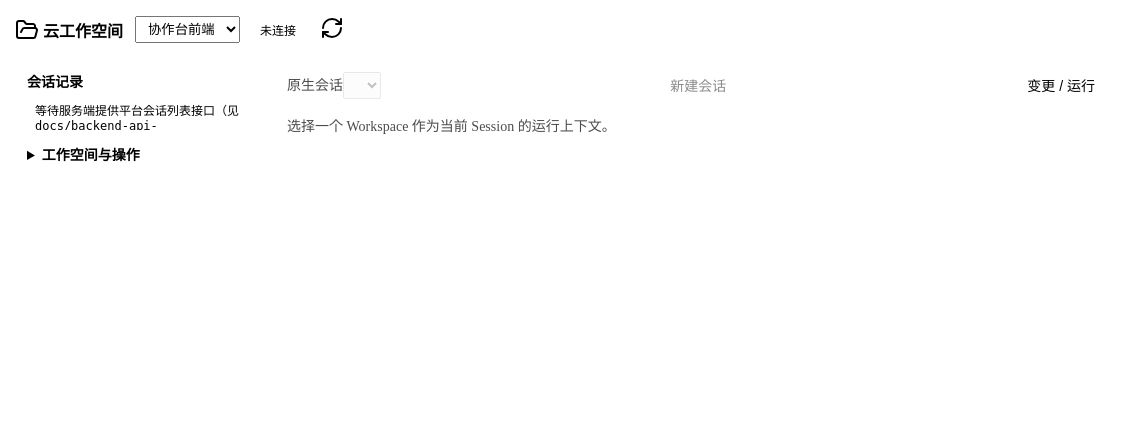
Test: 1-1 计划实体插件面（用户可编辑） › 计划列表渲染状态、编辑次数与编辑历史（事件可见）
Click the button with aria-label "打开变更与运行面板". click: (1061,85)
box: [1015,71,1107,99]
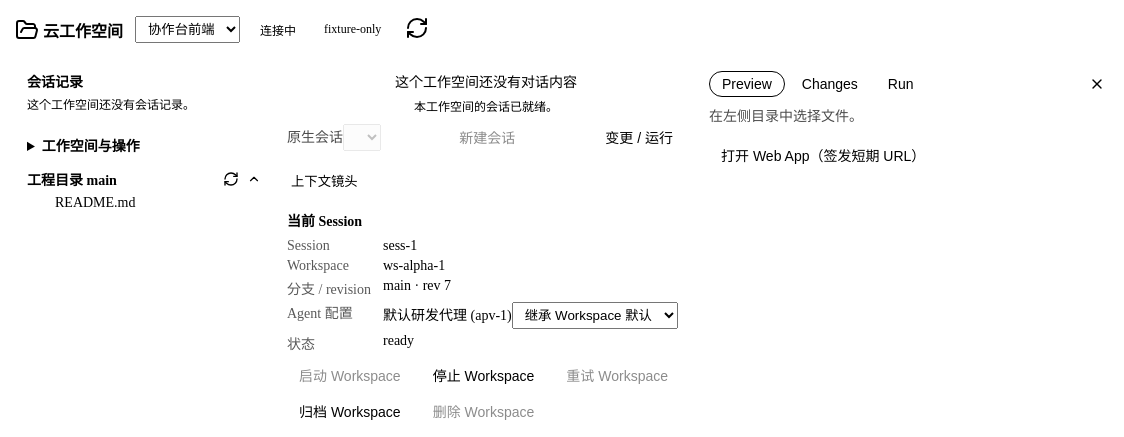
Click the tab "Run". click: (901,84)
box: [875,71,926,97]
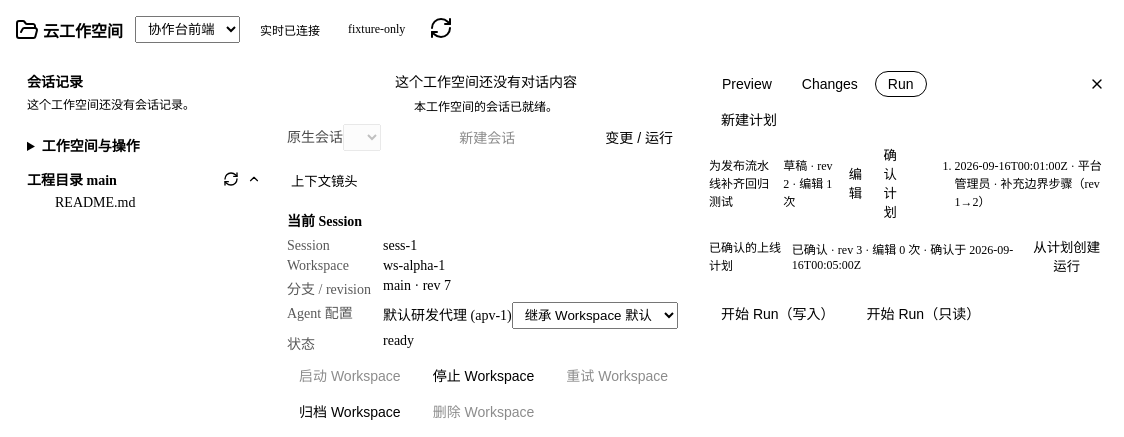
Now the button "新建计划" is shown, box [709,105,789,133]
Now the text "草稿 · rev 2 · 编辑 1 次" is shown, box [783,156,837,210]
Now the list item "2026-09-16T00:01:00Z · 平台管理员 · 补充边界步骤（rev 1→2）" is shown, box [954,156,1107,210]
